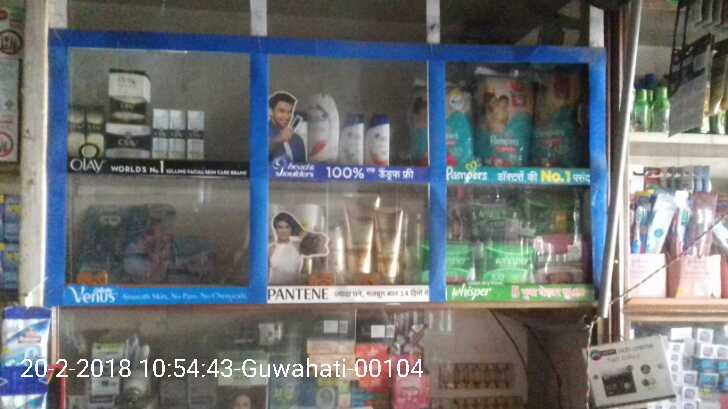venus: (81, 202, 126, 285), (126, 202, 167, 283), (167, 237, 215, 283)
